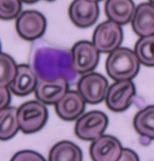M: (27, 36, 76, 82)
